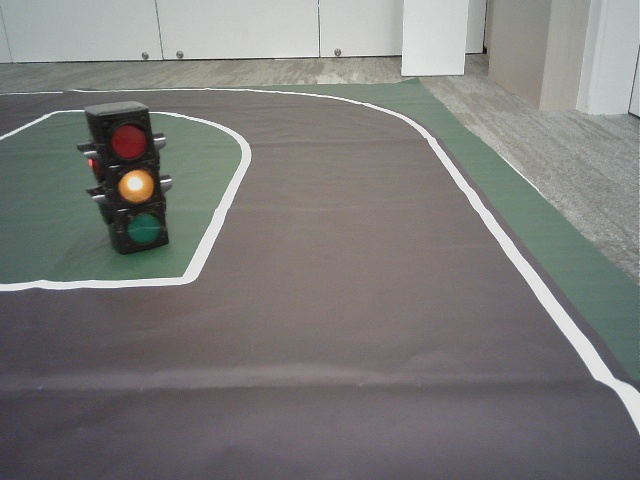yellow: (104, 118, 164, 242)
